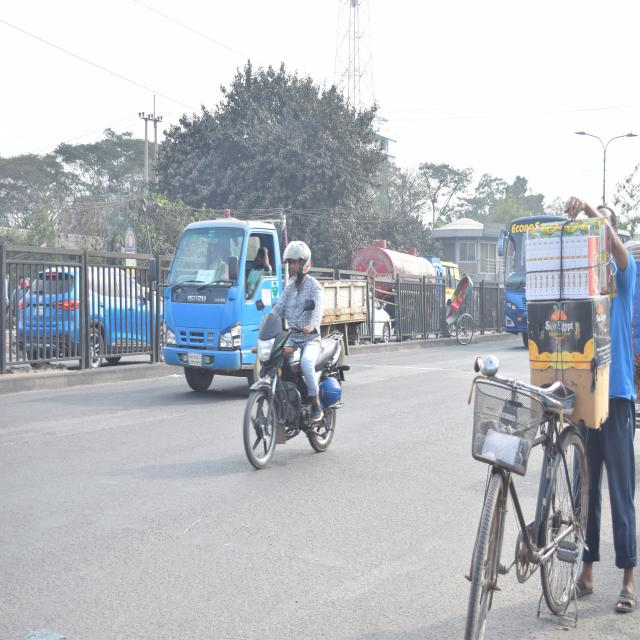bus: (492, 212, 562, 342)
motorbike: (236, 290, 351, 467)
pickup-van: (164, 209, 370, 375)
